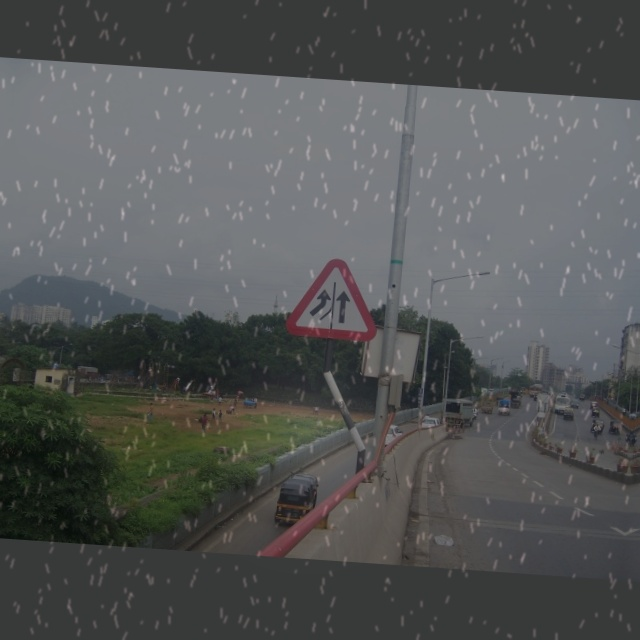Merge_Traffic_Ahead: (280, 246, 379, 349)
